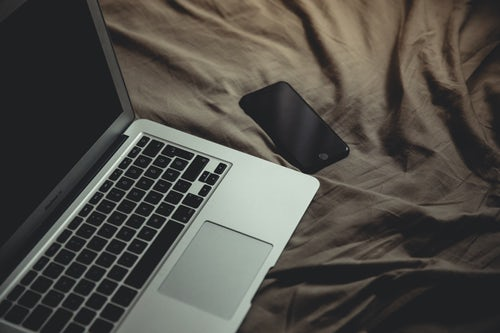phone: (238, 80, 353, 177)
